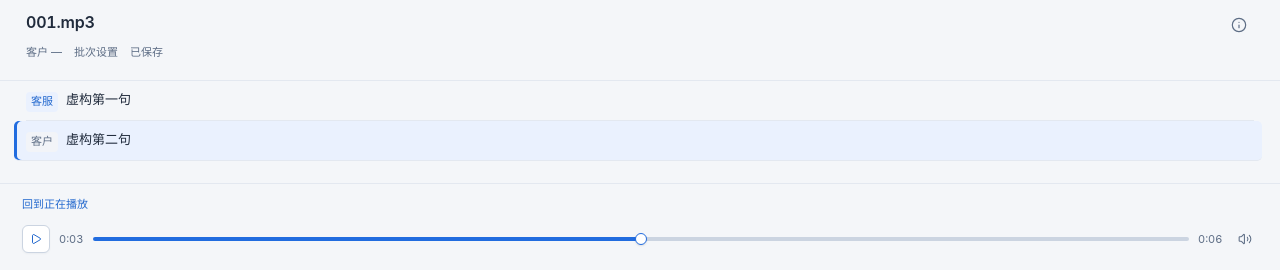
highlights playback, seeks by sentence, suspends follow on manual scrolling and resumes explicitly
Expected: the button "回到正在播放" is shown, [22, 194, 88, 214]
Click the button with aria-label "跳播第 1 句：虚构第一句" at (99, 98), box [66, 88, 1254, 109]
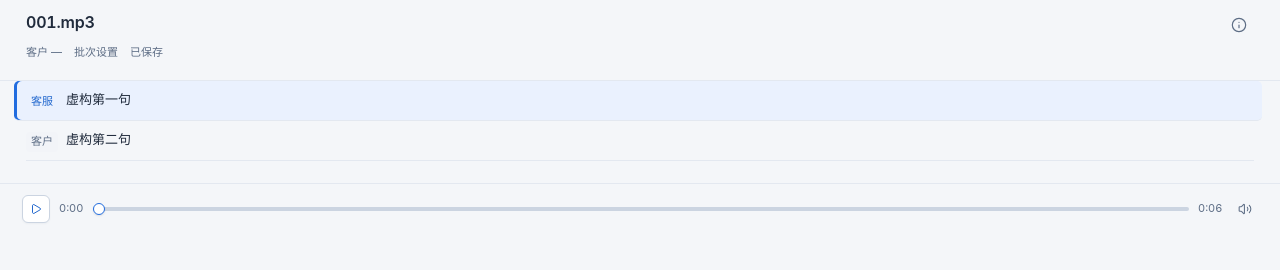
Result: the button "回到正在播放" is gone
